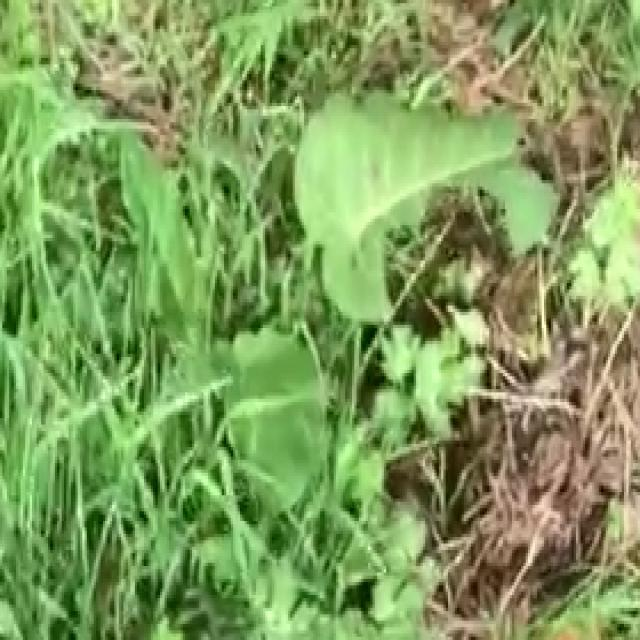organic waste: (82, 67, 592, 588)
